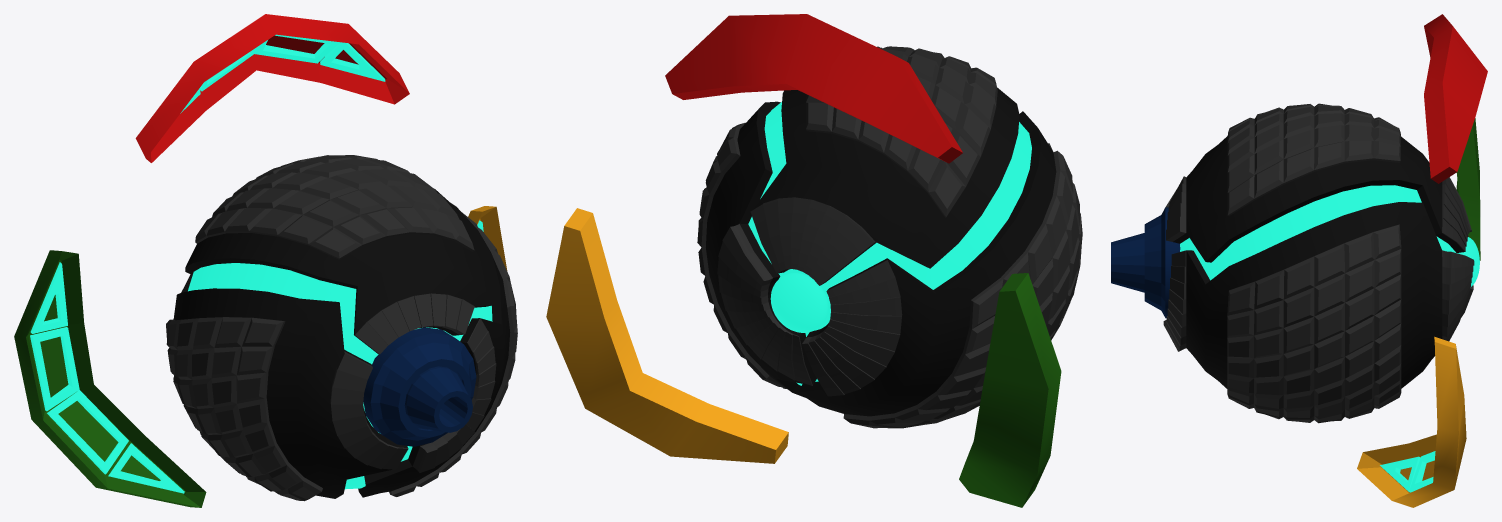
The model's file is Boss01.FBX.
3 views of the same model, side by side, from view 1: azimuth 30°, elevation 25°; view 2: azimuth 150°, elevation 25°; view 3: azimuth 270°, elevation 25° (orthographic). The views are drawn at different scales.
Visible parts, largest first — view 1: Object001, Object003, Tube003, Tube001, Cylinder001, Object002, Sphere003, Tube002; view 2: Object001, Object003, Tube002, Tube001, Object002, Tube003, Sphere003, Sphere005; view 3: Object002, Object003, Tube002, Tube001, Sphere003, Cylinder001, Tube003.
Boxes of the visible parts, left/top/right/bottom form: Object001: left=166, top=274, right=408, bottom=501; Object003: left=185, top=155, right=494, bottom=354; Tube003: left=14, top=250, right=206, bottom=507; Tube001: left=135, top=14, right=409, bottom=162; Cylinder001: left=363, top=327, right=476, bottom=446; Object002: left=358, top=202, right=517, bottom=497; Sphere003: left=188, top=263, right=492, bottom=489; Tube002: left=468, top=206, right=507, bottom=270; Object001: left=798, top=111, right=1082, bottom=428; Object003: left=750, top=46, right=1019, bottom=285; Tube002: left=546, top=208, right=788, bottom=463; Tube001: left=665, top=14, right=962, bottom=163; Object002: left=697, top=101, right=816, bottom=397; Tube003: left=959, top=273, right=1061, bottom=507; Sphere003: left=748, top=102, right=1031, bottom=385; Sphere005: left=770, top=273, right=827, bottom=332; Object002: left=1163, top=202, right=1474, bottom=423; Object003: left=1166, top=103, right=1471, bottom=262; Tube002: left=1357, top=336, right=1466, bottom=507; Tube001: left=1424, top=14, right=1487, bottom=183; Sphere003: left=1180, top=185, right=1456, bottom=280; Cylinder001: left=1111, top=207, right=1180, bottom=318; Tube003: left=1456, top=118, right=1480, bottom=260.
Bounding box in the file's own units: 274 × 255 × 208.
